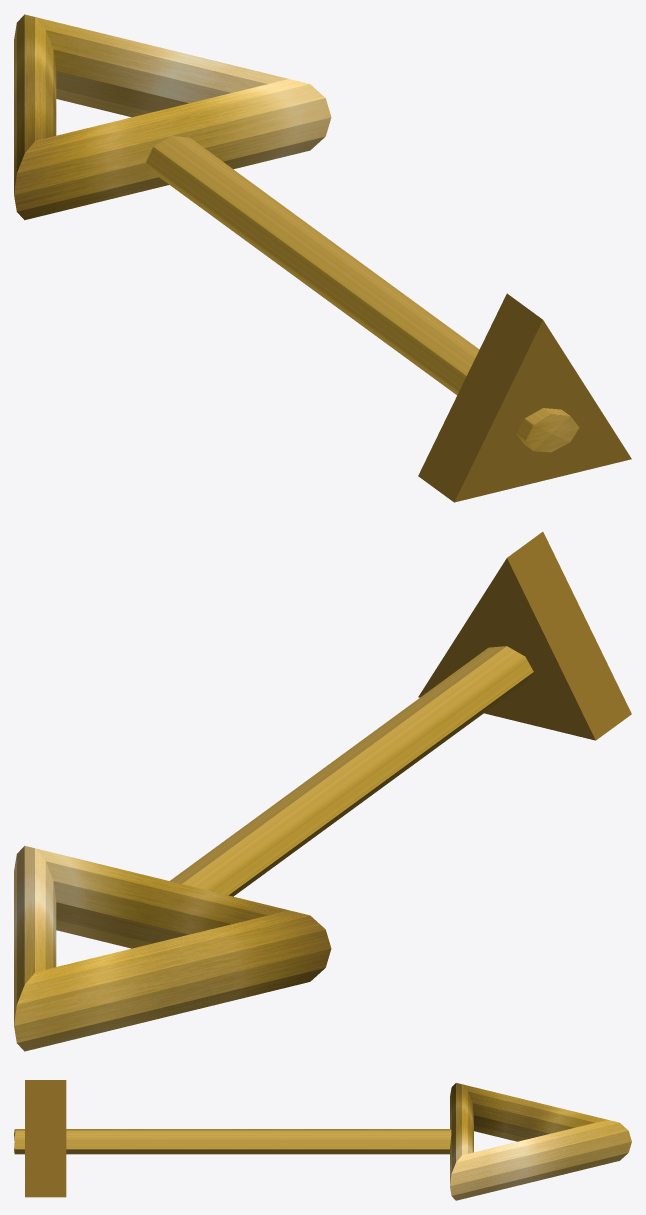
Rendered from trianglekey.obj.
3 renders of one model, top to bottom at view 1: azimuth 30°, elevation 25°; view 2: azimuth 150°, elevation 25°; view 3: azimuth 270°, elevation 25°, orthographic. The views are drawn at different scales.
Parts seen in each view (by area): view 1: Torus.003, Circle_Circle.001, Torus; view 2: Torus.003, Torus, Circle_Circle.001; view 3: Torus.003, Torus, Circle_Circle.001.
Boxes of the visible parts, left/top/right/bottom form: Torus.003: left=14, top=14, right=331, bottom=220; Circle_Circle.001: left=418, top=293, right=631, bottom=502; Torus: left=146, top=136, right=579, bottom=452; Torus.003: left=14, top=845, right=331, bottom=1051; Torus: left=170, top=646, right=533, bottom=896; Circle_Circle.001: left=418, top=532, right=631, bottom=740; Torus.003: left=450, top=1083, right=631, bottom=1200; Torus: left=14, top=1129, right=451, bottom=1154; Circle_Circle.001: left=25, top=1080, right=66, bottom=1197.
Bounding box in the file's own units: 2.17 × 1.05 × 6.36.
Materials: 3 (3 with a texture image).
